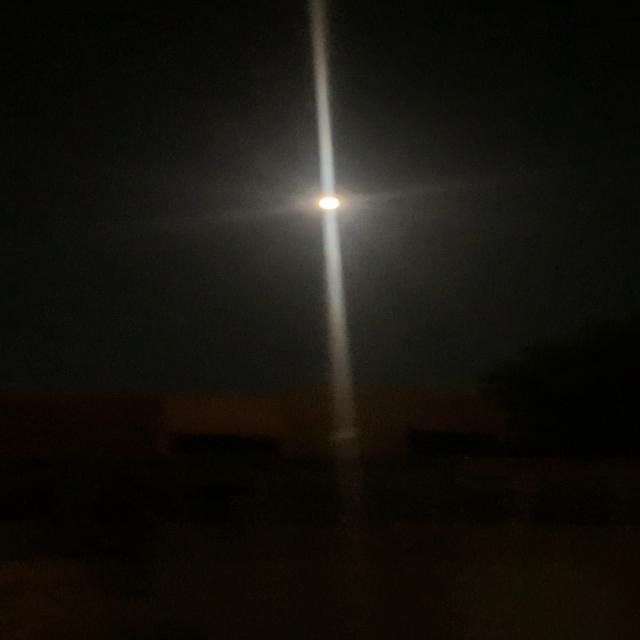moon: (295, 187, 359, 220)
